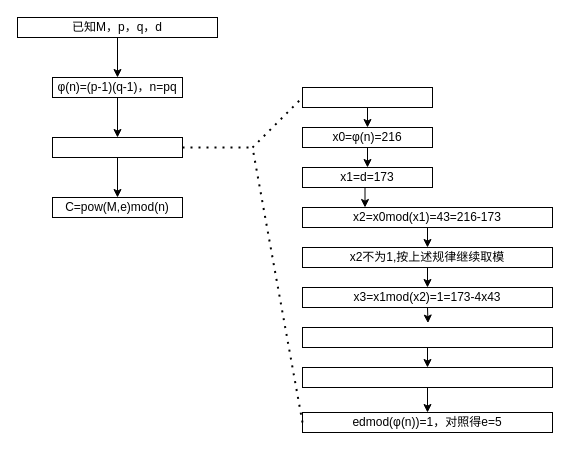
This 570x450 diagram has some shape labels left out. Each missing label, with the centre of its shape:
173-4x43=173-4x(216-173)=5x173-4x216: the point at 427,377
p=13 q=19 d=173: the point at 367,97
x3为1，停止迭代: the point at 427,337
计算e: the point at 117,147
